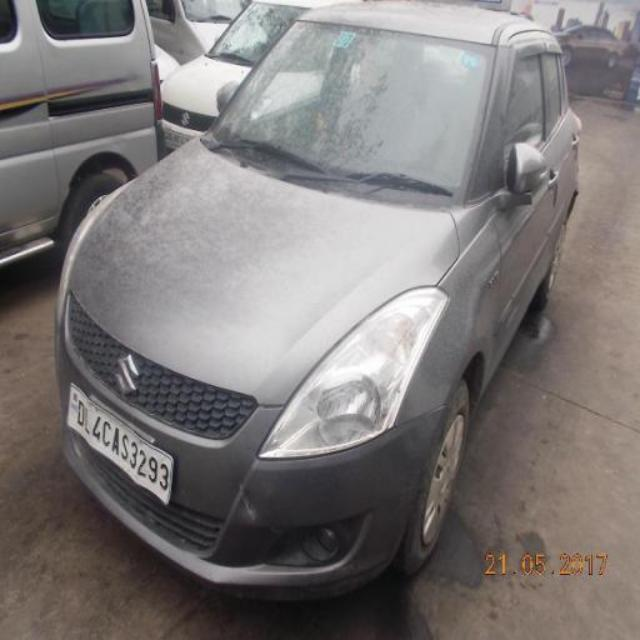crack: (238, 479, 263, 525)
